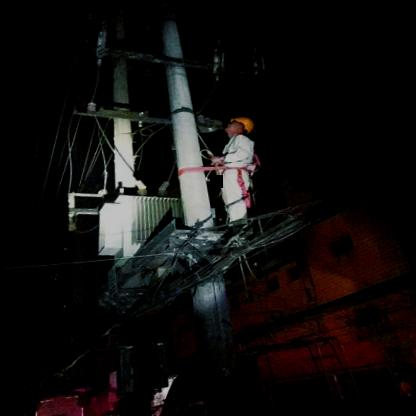helmet: (214, 110, 262, 148)
